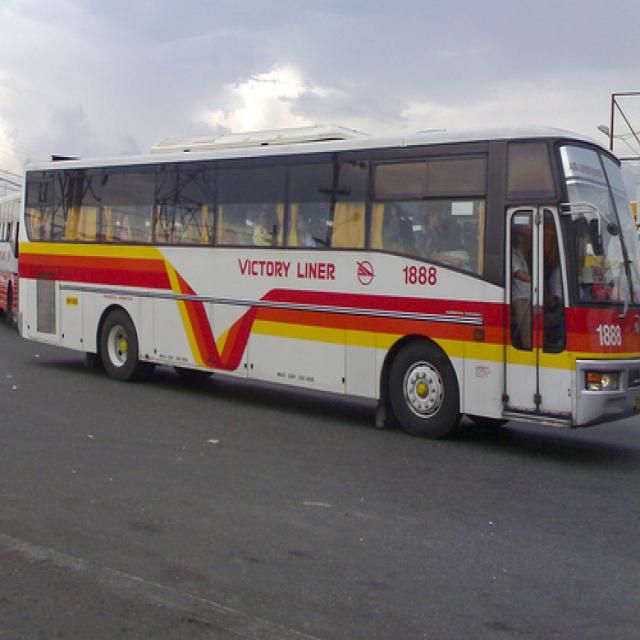bus: (18, 124, 640, 438)
